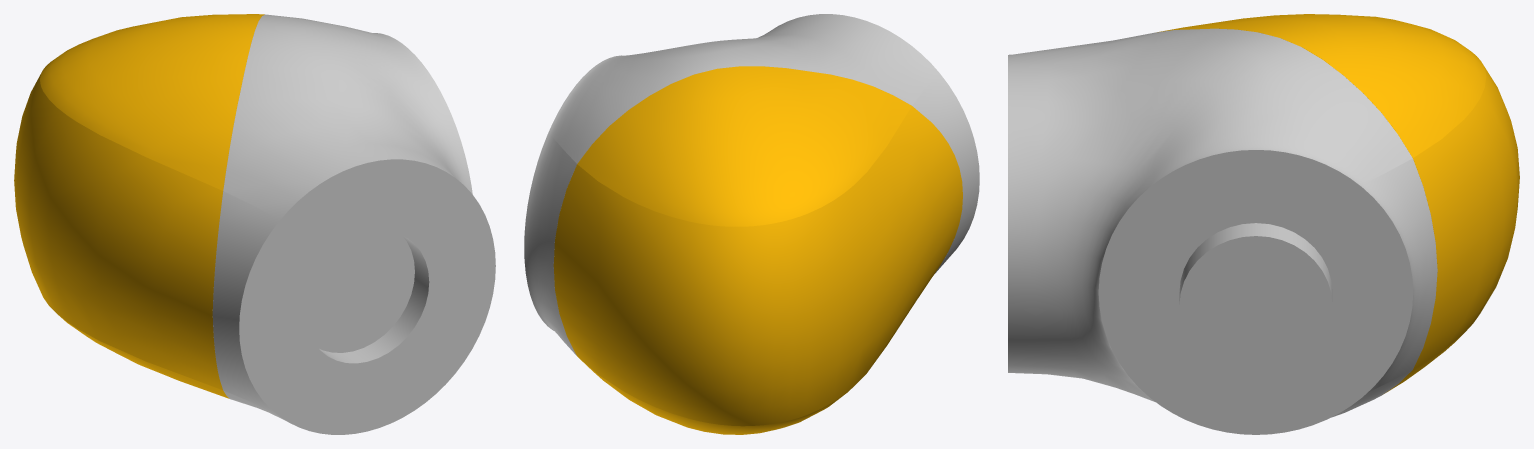
3 renders of one model, left to right at view 1: azimuth 30°, elevation 25°; view 2: azimuth 150°, elevation 25°; view 3: azimuth 270°, elevation 25°, orthographic. The views are drawn at different scales.
Visible parts, largest first — view 1: Grep1B14D08Apa01-13, Grep1B14D08Apa01-14; view 2: Grep1B14D08Apa01-14, Grep1B14D08Apa01-13; view 3: Grep1B14D08Apa01-13, Grep1B14D08Apa01-14.
Boxes of the visible parts, x1,y1,x2,y2 form: Grep1B14D08Apa01-13: (212,14,495,434); Grep1B14D08Apa01-14: (14,14,264,398); Grep1B14D08Apa01-14: (553,66,962,434); Grep1B14D08Apa01-13: (524,14,979,355); Grep1B14D08Apa01-13: (1008,28,1437,434); Grep1B14D08Apa01-14: (1157,14,1519,393).
Size of the model in its own units: 138 by 132 by 167.
